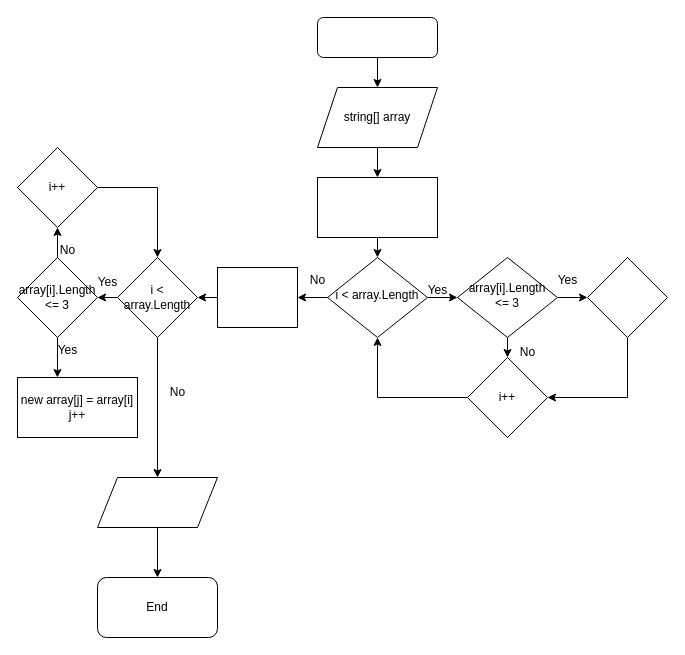
Some shapes in this 685 by 655 pixel diagram are drawn without their labels. The shapes that lost their labels are listed below. From the top down, each one's centre as x and y in pixels, then its label:
[377,37]: Start
[377,207]: j = 0 k = 0 i = 0
[257,297]: new array[k] i = 0
[627,297]: k++
[157,502]: new array[k]
